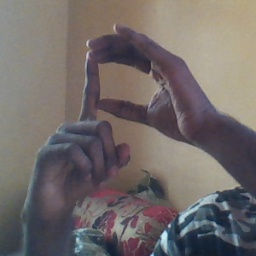P: (41, 19, 192, 189)
